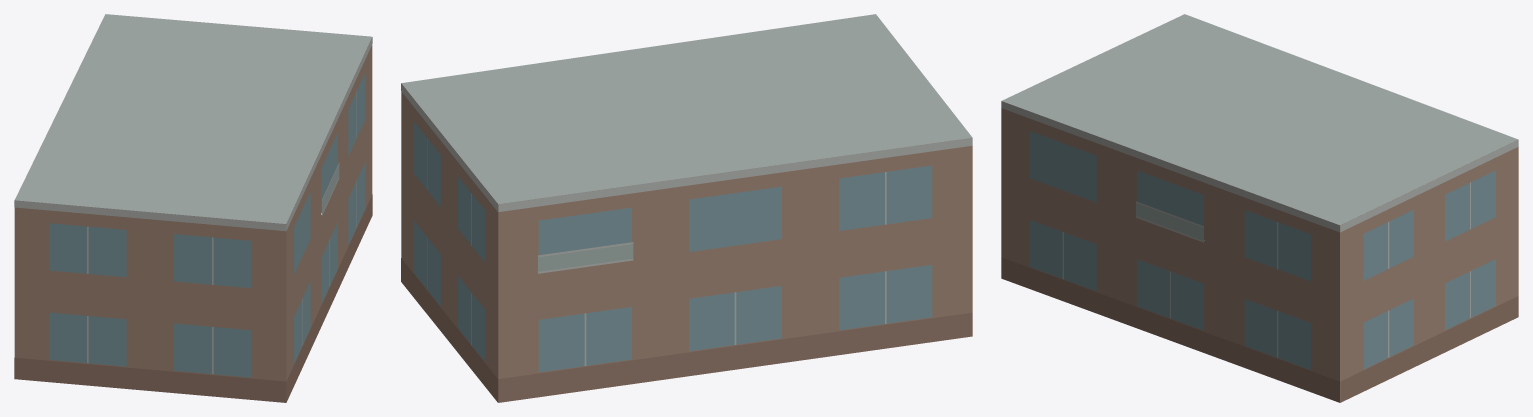
The model's file is survey-upis-32666087.glb.
3 renders of one model, left to right at view 1: azimuth 30°, elevation 25°; view 2: azimuth 150°, elevation 25°; view 3: azimuth 270°, elevation 25°, orthographic. The views are drawn at different scales.
Visible parts, largest first — view 1: survey-upis-32666087.tmp; view 2: survey-upis-32666087.tmp; view 3: survey-upis-32666087.tmp.
Boxes of the visible parts, bbox=[...] form: survey-upis-32666087.tmp: bbox=[14, 14, 372, 402]; survey-upis-32666087.tmp: bbox=[401, 14, 972, 402]; survey-upis-32666087.tmp: bbox=[1001, 14, 1518, 402].
Bounding box in the file's own units: 15.58 × 6.1 × 16.12.
